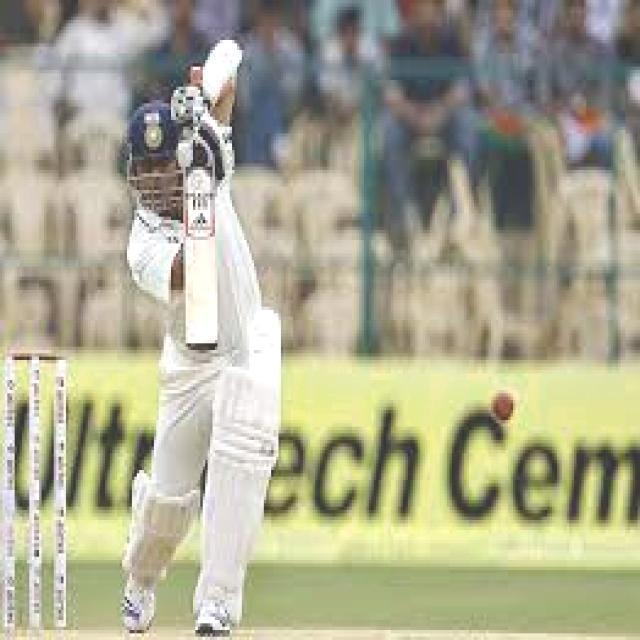bat: (177, 171, 225, 350)
toe: (184, 343, 219, 353)
